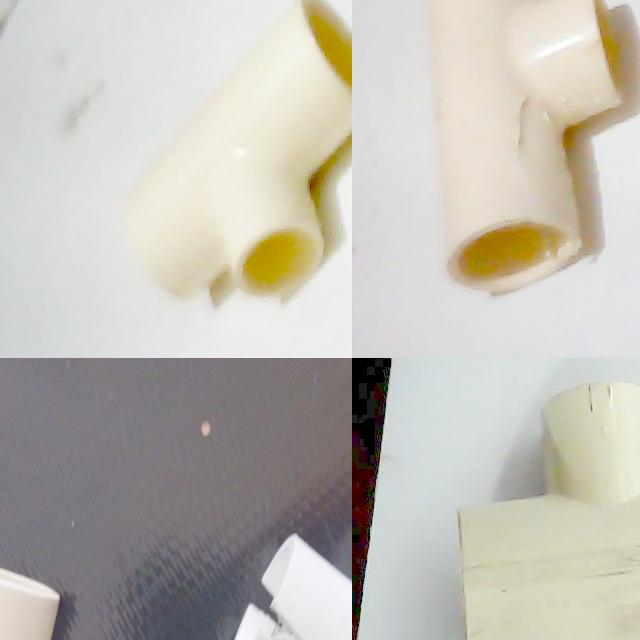Defective: (0, 408, 60, 505), (504, 85, 556, 192)
L Joint: (0, 358, 118, 495)
T Joint: (123, 0, 352, 303), (427, 0, 622, 296), (456, 382, 640, 640)
